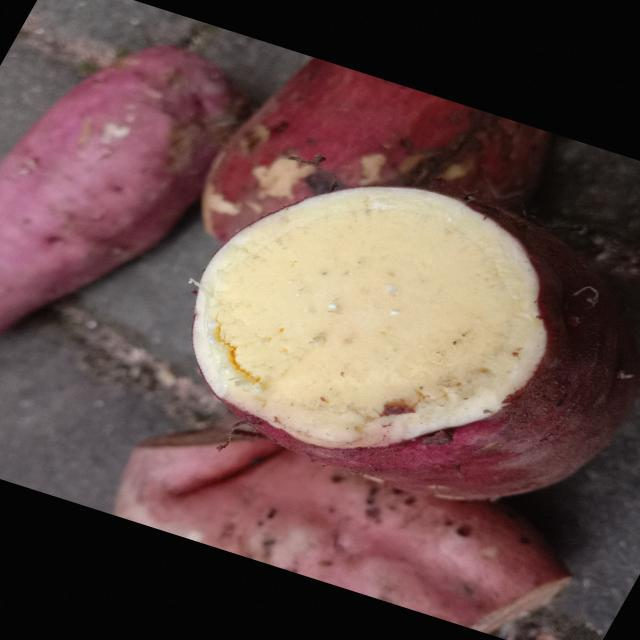Healthy Sweet Potato: (193, 188, 547, 448)
